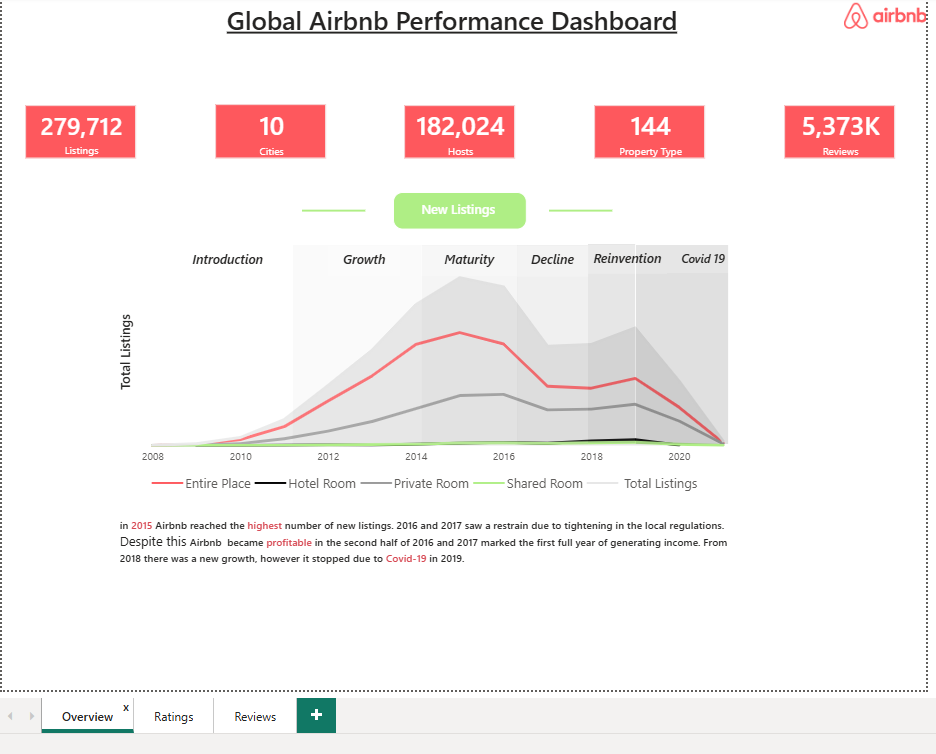

The page's visual inventory and layout, read from the dashboard file:
{"tool":"powerbi","page":{"name":"Overview","canvas":[960,720],"ordinal":0},"visuals":[{"type":"textbox","box":[228.3,0,503.4,50.4],"z":0},{"type":"image","box":[874.5,0,85.5,38.9],"z":1000},{"type":"cardVisual","fields":{"Data":["CountNonNull(Listings.listing_id)"]},"box":[7.3,95.7,149.8,89.9],"z":2000},{"type":"cardVisual","fields":{"Data":["Count(Listings.city)"]},"box":[204.4,94.5,149.6,90.4],"z":3000},{"type":"cardVisual","fields":{"Data":["Count(Listings.host_id)"]},"box":[401.4,95.7,149.8,89.9],"z":4000},{"type":"cardVisual","fields":{"Data":["Count(Listings.property_type)"]},"box":[598.5,95.7,149.8,89.9],"z":5000},{"type":"cardVisual","fields":{"Data":["Count(Reviews.review_id)"]},"box":[795.6,95.7,149.8,89.9],"z":6000},{"type":"lineChart","fields":{"Category":["Listings.host_since.Variation.Date Hierarchy.Year"],"Y":["Listings.Entire Place","Listings.Hotel Room","Listings.Private Room","Listings.Shared Room","CountNonNull(Listings.listing_id)"]},"box":[116.9,257.2,648.8,266.7],"z":7000},{"type":"textbox","box":[406.2,202.4,138.8,39.5],"z":8000},{"type":"shape","box":[166.6,257.2,135.9,206.8],"z":9000},{"type":"textbox","box":[181.9,258.6,105.2,30],"z":10000},{"type":"shape","box":[302.5,257.2,133.7,206.8],"z":11000},{"type":"shape","box":[436.2,257.2,99.4,206.8],"z":12000},{"type":"shape","box":[535.5,257.2,73.8,206.8],"z":13000},{"type":"shape","box":[609.3,256.4,48.9,206.8],"z":14000},{"type":"shape","box":[658.3,257.2,95.7,206.8],"z":15000},{"type":"textbox","box":[339,258.6,75.3,31.4],"z":16000},{"type":"textbox","box":[435.4,258.6,100.1,31.4],"z":17000},{"type":"textbox","box":[535.5,258.6,73.8,32.1],"z":18000},{"type":"textbox","box":[609.3,257.2,81.8,30],"z":19000},{"type":"shape","box":[311.2,203.1,65.8,38.7],"z":20000},{"type":"shape","box":[568.4,203.1,65.8,38.7],"z":21000},{"type":"textbox","box":[691.1,257.2,74.5,29.2],"z":22000},{"type":"textbox","box":[116.9,534.1,648.8,94.2],"z":23000}]}

Visuals, with their boxes on the page's 960x720 design canvas (x1, y1, x2, y2). These are canvas units, not pixel positions in the 936x754 screenshot, which may show the page scaled, cropped or inside an application window:
textbox: bbox(228, 0, 732, 50)
image: bbox(874, 0, 960, 39)
cardVisual - CountNonNull(Listings.listing_id): bbox(7, 96, 157, 186)
cardVisual - Count(Listings.city): bbox(204, 94, 354, 185)
cardVisual - Count(Listings.host_id): bbox(401, 96, 551, 186)
cardVisual - Count(Listings.property_type): bbox(598, 96, 748, 186)
cardVisual - Count(Reviews.review_id): bbox(796, 96, 945, 186)
lineChart - Listings.host_since.Variation.Date Hierarchy.Year x Listings.Entire Place: bbox(117, 257, 766, 524)
textbox: bbox(406, 202, 545, 242)
shape: bbox(167, 257, 302, 464)
textbox: bbox(182, 259, 287, 289)
shape: bbox(302, 257, 436, 464)
shape: bbox(436, 257, 536, 464)
shape: bbox(536, 257, 609, 464)
shape: bbox(609, 256, 658, 463)
shape: bbox(658, 257, 754, 464)
textbox: bbox(339, 259, 414, 290)
textbox: bbox(435, 259, 536, 290)
textbox: bbox(536, 259, 609, 291)
textbox: bbox(609, 257, 691, 287)
shape: bbox(311, 203, 377, 242)
shape: bbox(568, 203, 634, 242)
textbox: bbox(691, 257, 766, 286)
textbox: bbox(117, 534, 766, 628)
